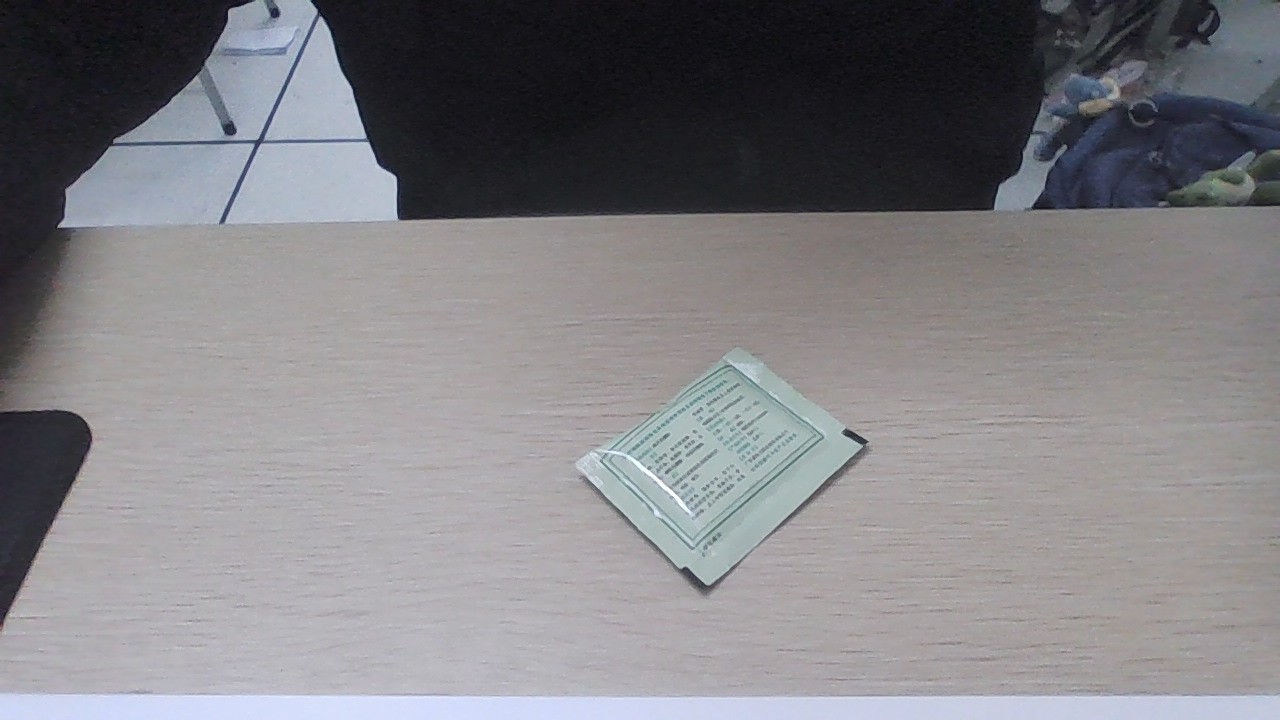YH-green medicine: (613, 380, 842, 544)
